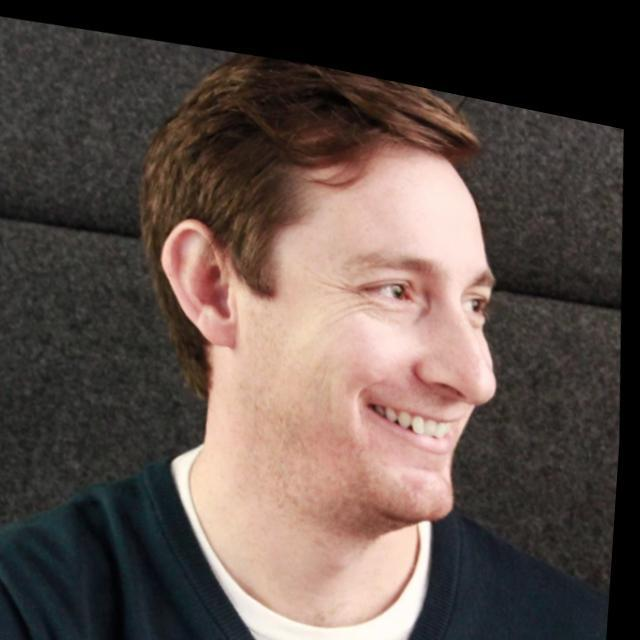Nonhelmet: (122, 53, 530, 537)
